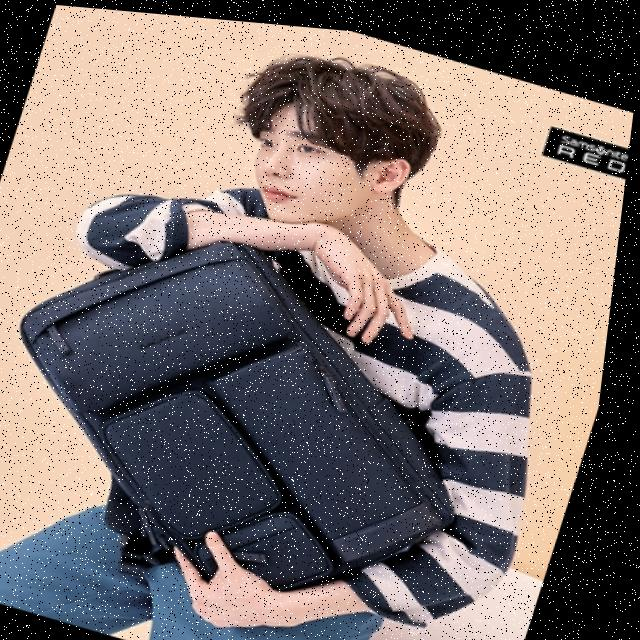backpack: (0, 166, 546, 640)
